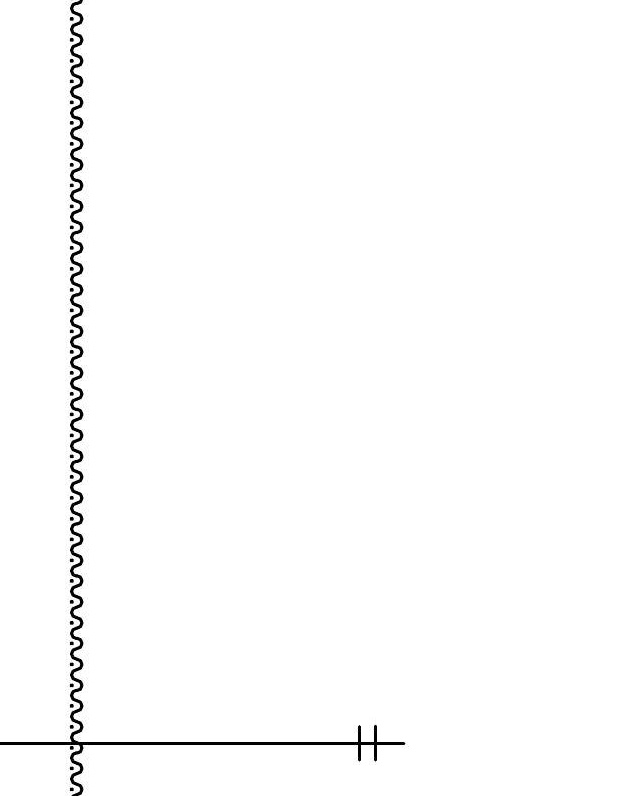115_buffer: (358, 725, 377, 762)
